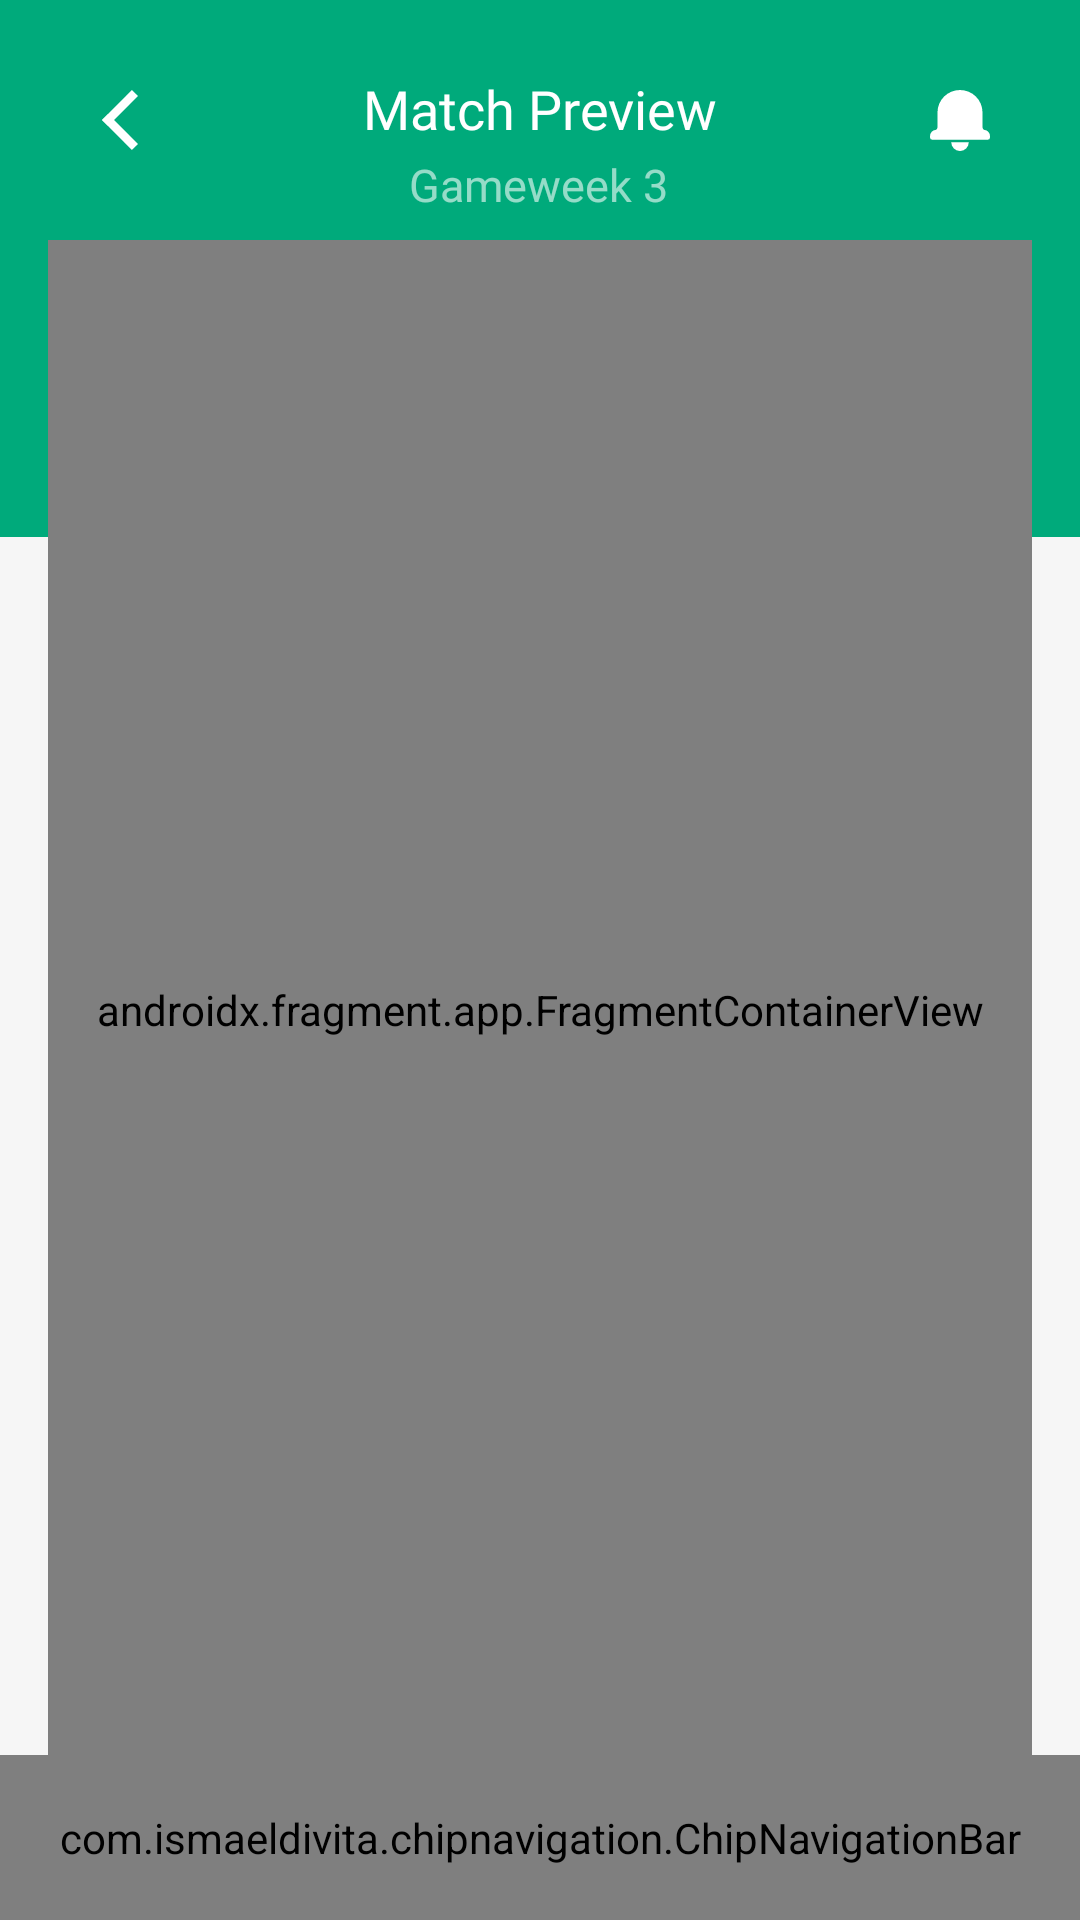

Where icons sit on this 1080px x 1920px app screen, as [x1, y1, x2, y2]:
back: [102, 90, 138, 150]
notifications: [930, 90, 990, 151]
